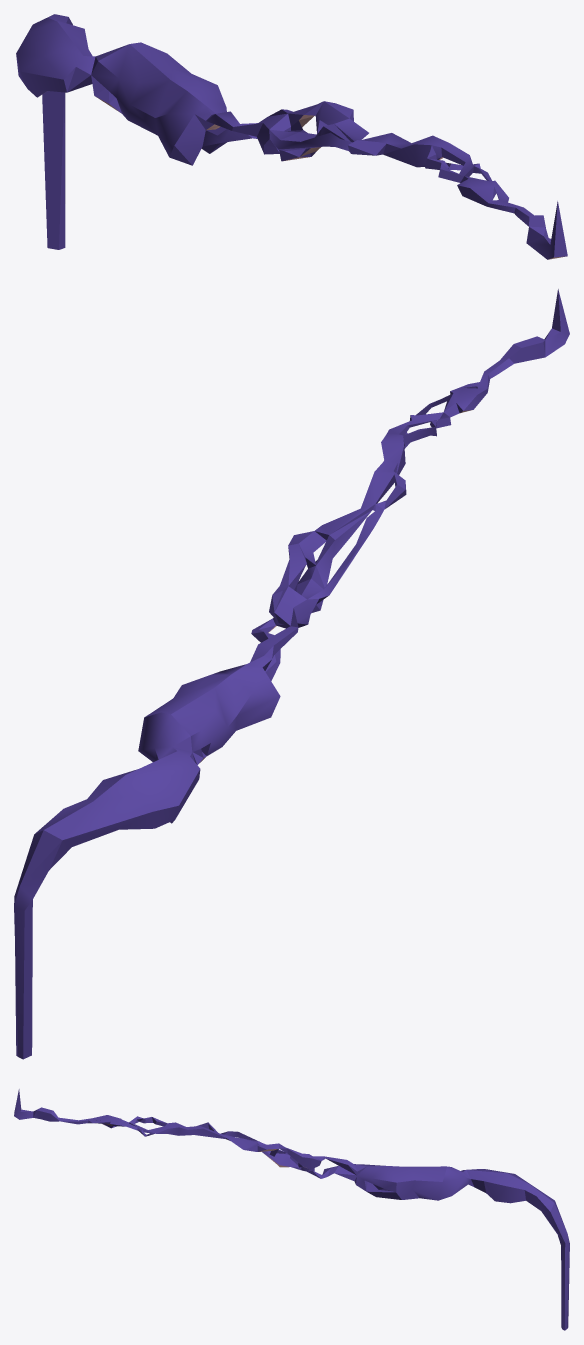
The model's file is Tunnel_1.fbx.
The picture shows the model from 3 angles, top to bottom: view 1: azimuth 30°, elevation 25°; view 2: azimuth 150°, elevation 25°; view 3: azimuth 270°, elevation 25°; orthographic projection. The views are drawn at different scales.
Parts seen in each view (by area): view 1: Tunnel_1; view 2: Tunnel_1; view 3: Tunnel_1.
Boxes of the visible parts, left/top/right/bottom form: Tunnel_1: left=16, top=14, right=567, bottom=259; Tunnel_1: left=14, top=289, right=569, bottom=1059; Tunnel_1: left=14, top=1089, right=569, bottom=1330.
Bounding box in the file's own units: 13248 × 51441 × 112803.
